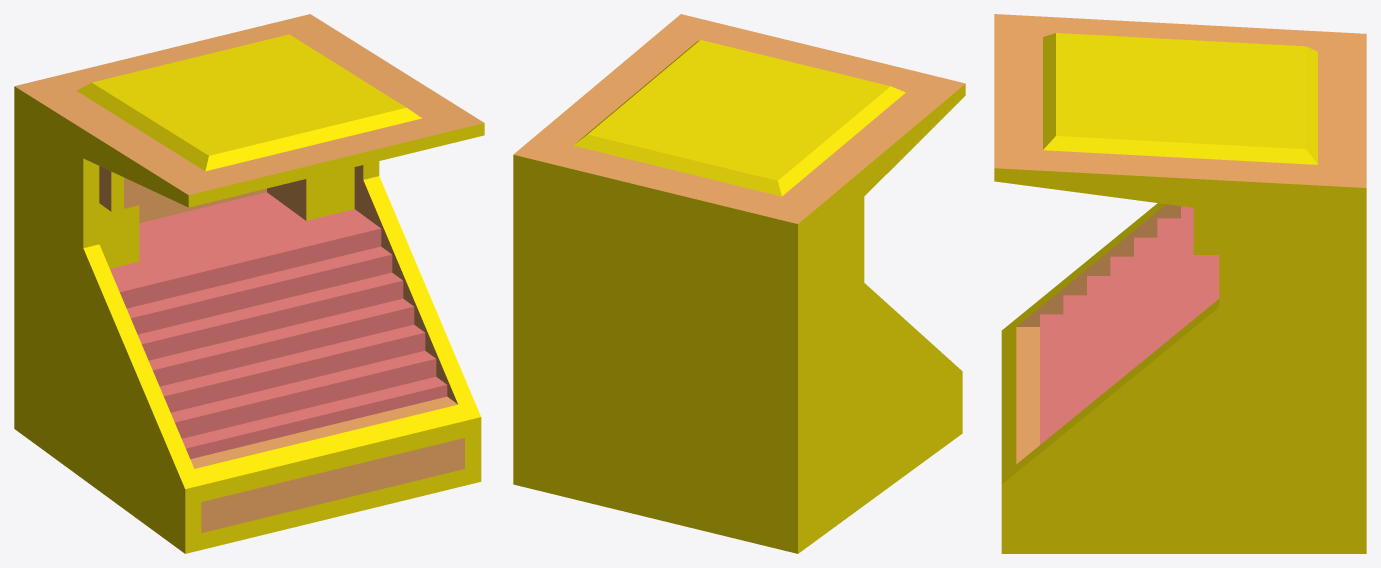
File: grandStandCovered.glb
3 views of the same model, side by side, from view 1: azimuth 30°, elevation 25°; view 2: azimuth 150°, elevation 25°; view 3: azimuth 270°, elevation 25° (orthographic). The views are drawn at different scales.
Visible parts, largest first — view 1: grandStandCovered(Clone); view 2: grandStandCovered(Clone); view 3: grandStandCovered(Clone).
Boxes of the visible parts, box(x1,y1,x2,y2) form: grandStandCovered(Clone): box(14, 14, 484, 553); grandStandCovered(Clone): box(513, 14, 965, 553); grandStandCovered(Clone): box(994, 14, 1366, 553).
Size of the model in its own units: 1 by 1.19 by 1.02.
